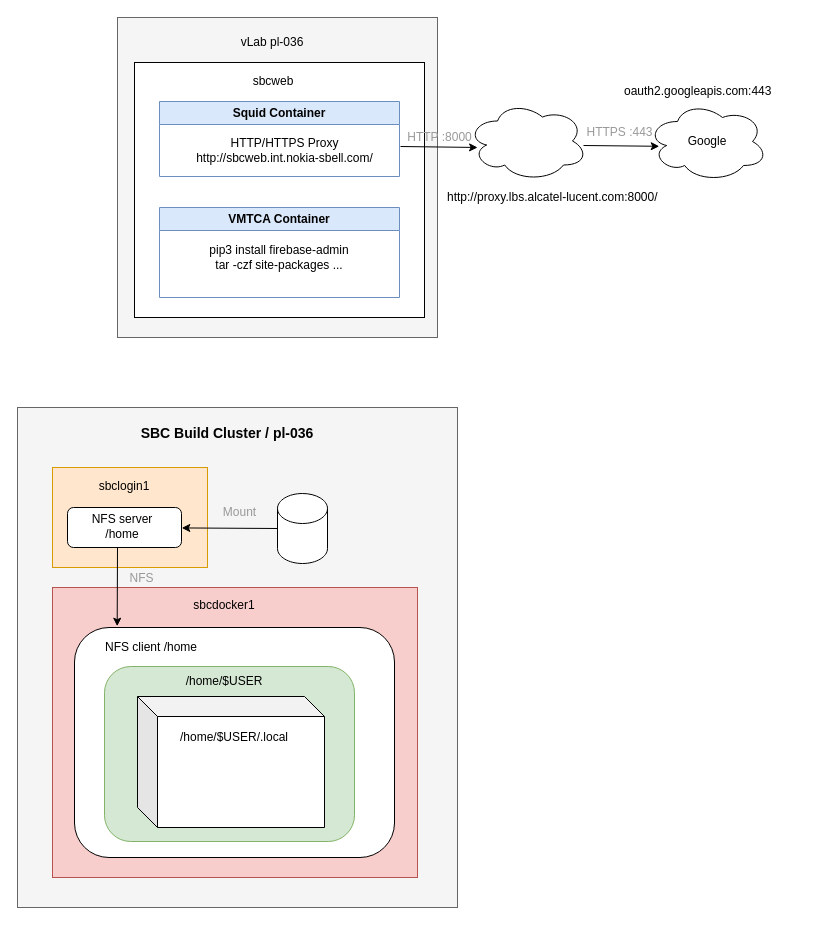
Image size: 820x925. Some labels were removed from this diagram. The centre of each missing label's shape, as x and y in pixels:
7T Volume: the point at 302,528
Nokia IT Proxy: the point at 527,140
